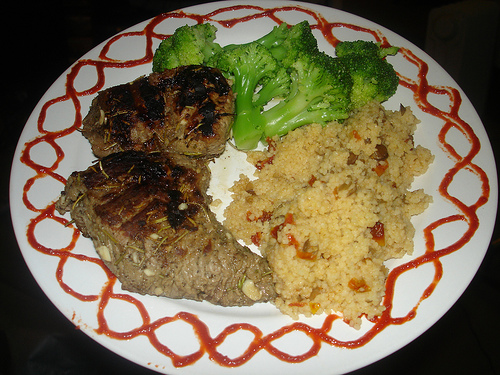broccoli: (223, 15, 352, 150), (149, 23, 232, 74)
